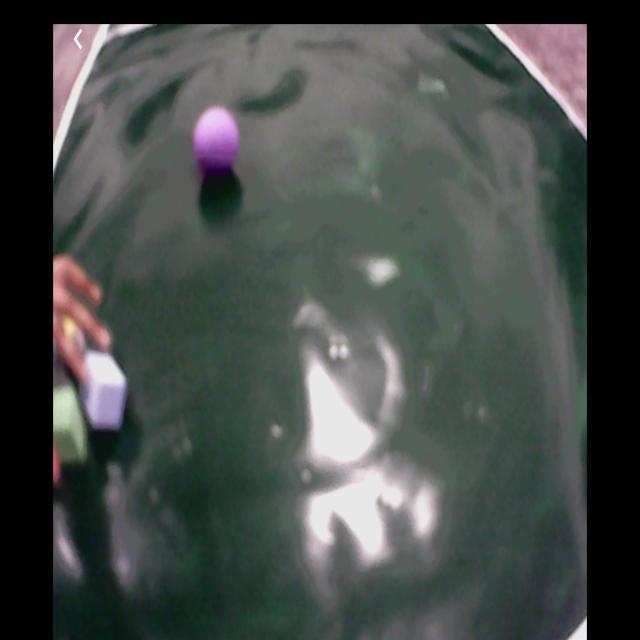ball: (193, 110, 239, 174)
